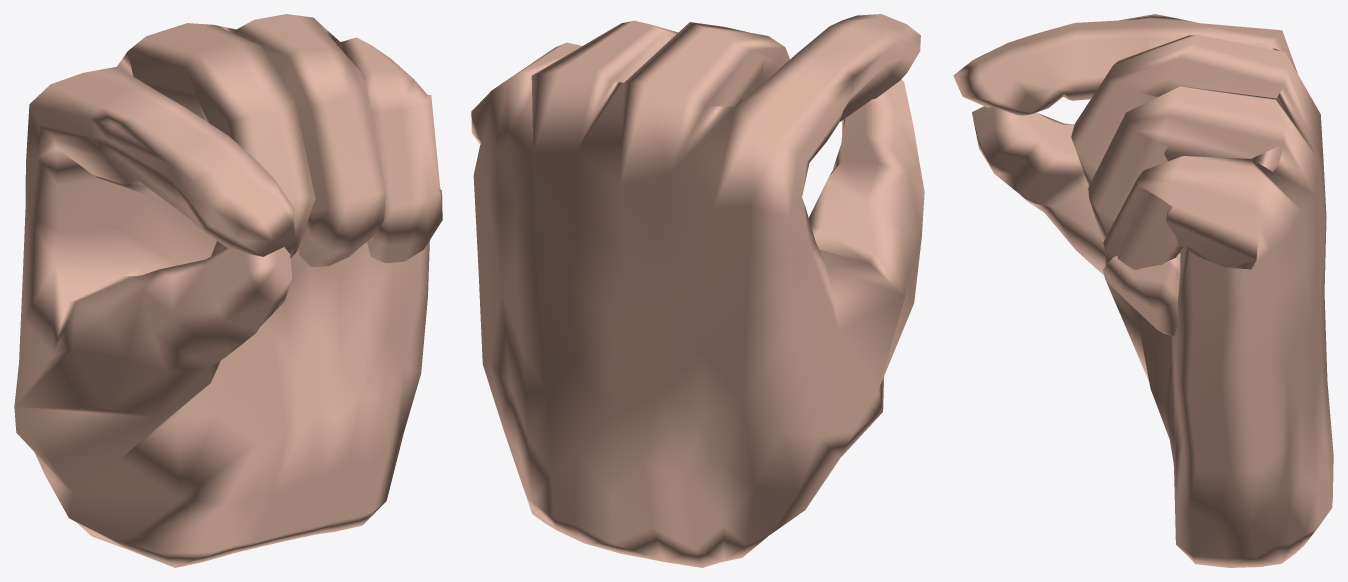
The model's file is MAO_PASSARINHO_FECHADA.obj.
3 renders of one model, left to right at view 1: azimuth 30°, elevation 25°; view 2: azimuth 150°, elevation 25°; view 3: azimuth 270°, elevation 25°, orthographic. The views are drawn at different scales.
Visible parts, largest first — view 1: mao_dir polySurface1; view 2: mao_dir polySurface1; view 3: mao_dir polySurface1.
Part boxes in pixels (x1,y1,x2,y2): mao_dir polySurface1: [14, 14, 442, 567]; mao_dir polySurface1: [471, 14, 924, 567]; mao_dir polySurface1: [953, 14, 1333, 567].
Size of the model in its own units: 130 by 155 by 115.
